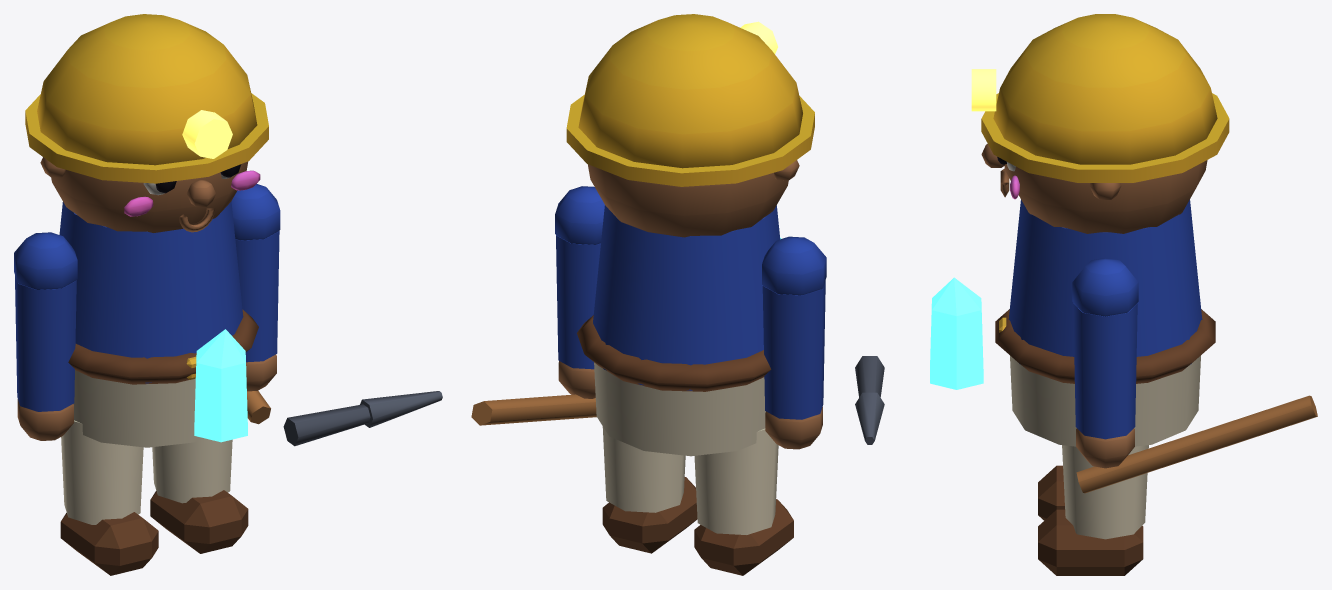
Rendered from villager_crystal_miner.glb.
3 renders of one model, left to right at view 1: azimuth 30°, elevation 25°; view 2: azimuth 150°, elevation 25°; view 3: azimuth 270°, elevation 25°, orthographic.
Parts seen in each view (by area): view 1: body_t0_palette, arml_t0_palette, armr_t0_palette, legl_t0_palette, legr_t0_palette, carry_t0_crystal, body_t0_window; view 2: body_t0_palette, arml_t0_palette, armr_t0_palette, legl_t0_palette, legr_t0_palette, body_t0_window; view 3: body_t0_palette, armr_t0_palette, legr_t0_palette, carry_t0_crystal, legl_t0_palette, body_t0_window.
Part boxes in pixels (bbox=[...]): body_t0_palette: bbox=[25, 14, 268, 447]; arml_t0_palette: bbox=[14, 232, 77, 440]; armr_t0_palette: bbox=[231, 184, 442, 446]; legl_t0_palette: bbox=[60, 420, 158, 575]; legr_t0_palette: bbox=[150, 438, 248, 553]; carry_t0_crystal: bbox=[194, 329, 247, 442]; body_t0_window: bbox=[182, 110, 232, 158]; body_t0_palette: bbox=[566, 14, 814, 456]; arml_t0_palette: bbox=[762, 236, 826, 449]; armr_t0_palette: bbox=[471, 186, 604, 425]; legl_t0_palette: bbox=[694, 428, 793, 575]; legr_t0_palette: bbox=[602, 426, 697, 553]; body_t0_window: bbox=[740, 21, 777, 53]; body_t0_palette: bbox=[981, 14, 1229, 446]; armr_t0_palette: bbox=[855, 258, 1317, 493]; legr_t0_palette: bbox=[1038, 445, 1148, 575]; carry_t0_crystal: bbox=[930, 277, 983, 389]; legl_t0_palette: bbox=[1038, 465, 1064, 520]; body_t0_window: bbox=[971, 69, 996, 111].
Bounding box in the file's own units: 0.2866 × 0.4645 × 0.3734.
